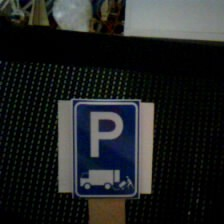load: (68, 99, 146, 198)
